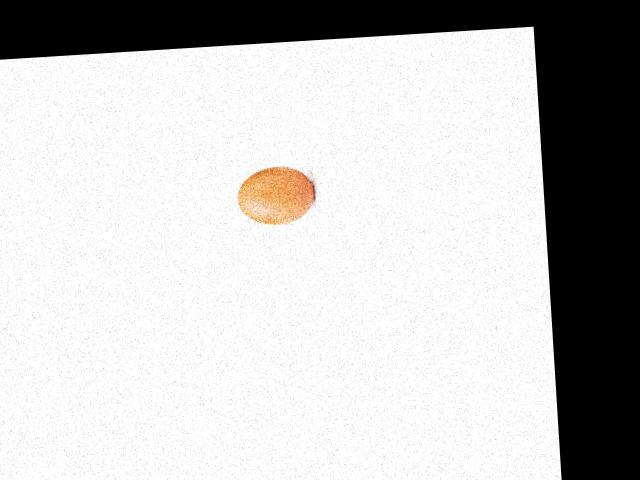egg: (236, 164, 315, 226)
